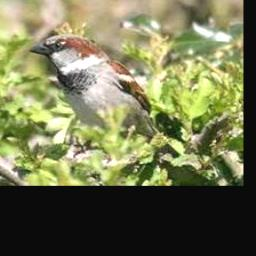Sparrow: (29, 34, 161, 139)
